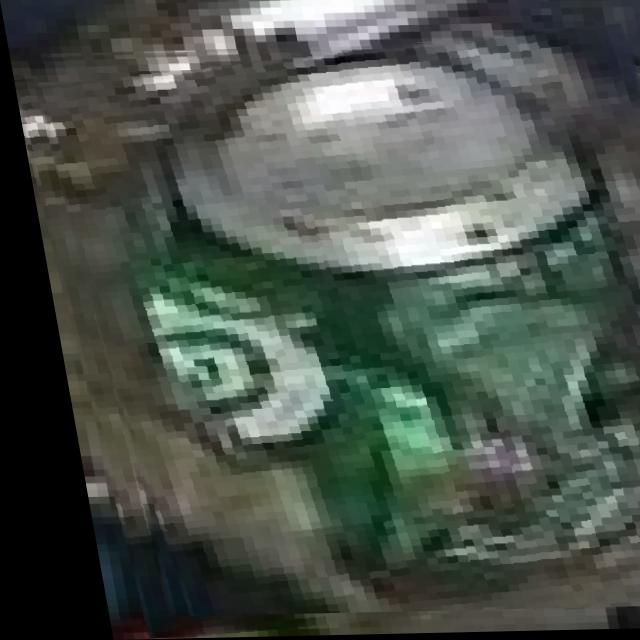litter: (86, 44, 640, 611), (562, 54, 640, 473)
